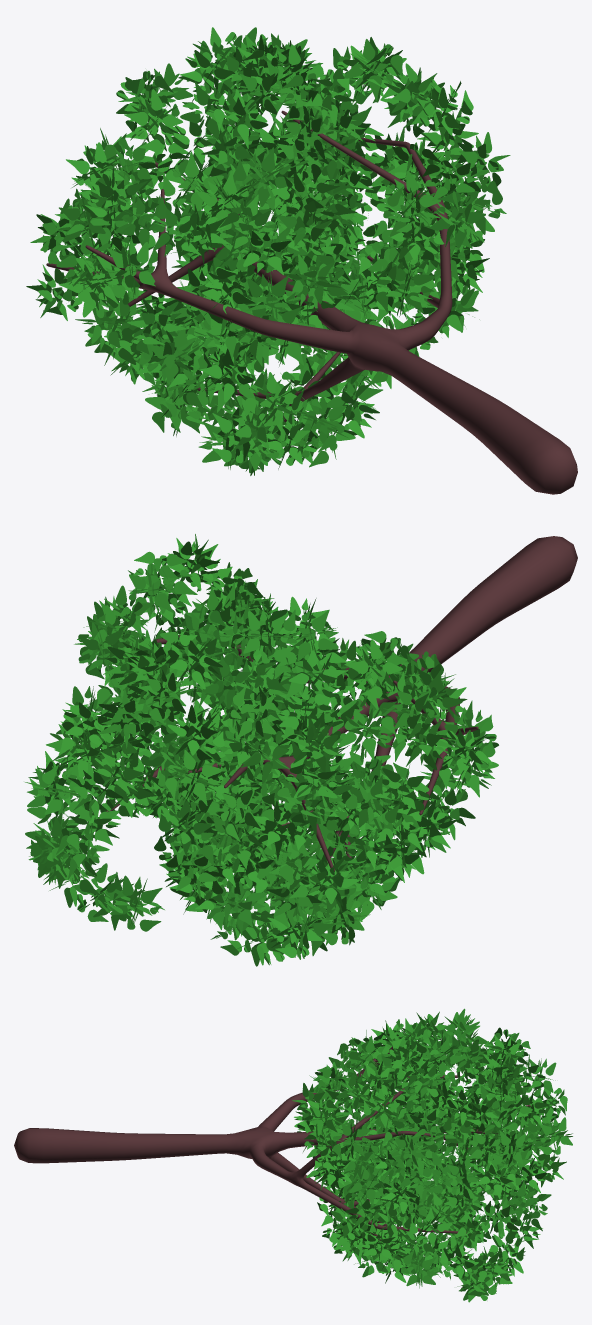
File: tree.fbx
3 renders of one model, top to bottom at view 1: azimuth 30°, elevation 25°; view 2: azimuth 150°, elevation 25°; view 3: azimuth 270°, elevation 25°, orthographic. The views are drawn at different scales.
Visible parts, largest first — view 1: Plane.005; view 2: Plane.005; view 3: Plane.005.
Boxes of the visible parts, x1,y1,x2,y2 form: Plane.005: [26, 27, 577, 494]; Plane.005: [25, 534, 577, 966]; Plane.005: [14, 1008, 572, 1302].
Size of the model in its own units: 12.14 by 10.56 by 19.51.
